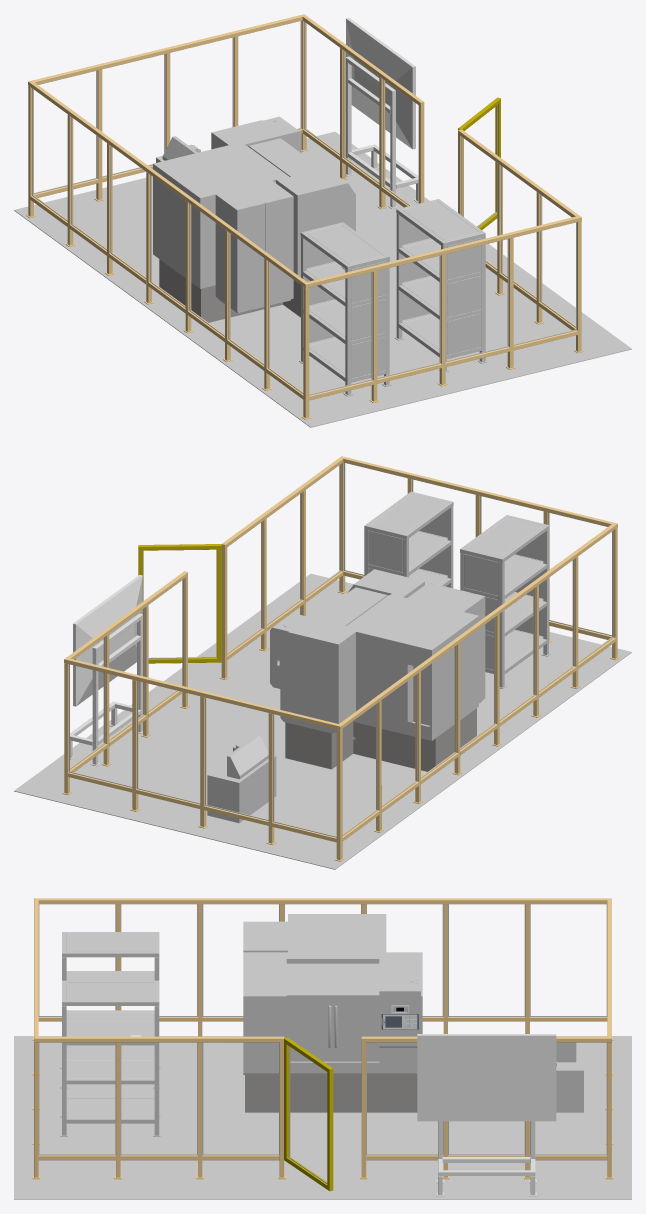
The model's file is sketchMap.glb.
The picture shows the model from 3 angles, top to bottom: view 1: azimuth 30°, elevation 25°; view 2: azimuth 150°, elevation 25°; view 3: azimuth 270°, elevation 25°; orthographic projection. The views are drawn at different scales.
Parts seen in each view (by area): view 1: Mesh_383, Mesh_348, 屏幕, Mesh_362, Mesh_359, Mesh_357, Mesh_204, Mesh_93, Mesh_98, Mesh_88, Mesh_195, Mesh_30 (+45 smaller); view 2: Mesh_383, Mesh_348, Mesh_204, 屏幕, Mesh_199, Mesh_93, Mesh_362, Mesh_88, Mesh_98, Mesh_195, Mesh_30, Mesh_24 (+36 smaller); view 3: Mesh_383, Mesh_348, 屏幕, Mesh_204, 右侧门, 左侧门, Mesh_93, Mesh_106, Mesh_195, Mesh_30, Mesh_171, Mesh_177 (+40 smaller).
Part boxes in pixels (left/top/right/bottom): Mesh_383: left=14, top=131, right=631, bottom=427; Mesh_348: left=153, top=120, right=355, bottom=288; 屏幕: left=346, top=17, right=415, bottom=149; Mesh_362: left=215, top=181, right=292, bottom=311; Mesh_359: left=236, top=203, right=265, bottom=312; Mesh_357: left=265, top=196, right=293, bottom=304; Mesh_204: left=159, top=259, right=300, bottom=322; Mesh_93: left=28, top=81, right=306, bottom=287; Mesh_98: left=305, top=216, right=581, bottom=288; Mesh_88: left=29, top=14, right=303, bottom=84; Mesh_195: left=403, top=201, right=478, bottom=240; Mesh_30: left=307, top=225, right=383, bottom=263; Mesh_383: left=14, top=573, right=631, bottom=869; Mesh_348: left=280, top=569, right=478, bottom=740; Mesh_204: left=285, top=708, right=476, bottom=771; 屏幕: left=73, top=575, right=142, bottom=706; Mesh_199: left=207, top=755, right=276, bottom=823; Mesh_93: left=339, top=523, right=617, bottom=729; Mesh_362: left=407, top=583, right=484, bottom=702; Mesh_88: left=64, top=658, right=340, bottom=730; Mesh_98: left=342, top=456, right=616, bottom=526; Mesh_195: left=371, top=494, right=446, bottom=533; Mesh_30: left=466, top=517, right=542, bottom=556; Mesh_24: left=464, top=554, right=498, bottom=595; Mesh_383: left=14, top=1036, right=631, bottom=1199; Mesh_348: left=243, top=914, right=422, bottom=1074; 屏幕: left=417, top=1034, right=556, bottom=1121; Mesh_204: left=245, top=1075, right=417, bottom=1112; 右侧门: left=333, top=964, right=379, bottom=1061; 左侧门: left=286, top=964, right=332, bottom=1061; Mesh_93: left=35, top=898, right=610, bottom=904; Mesh_106: left=34, top=1036, right=284, bottom=1042; Mesh_195: left=66, top=982, right=154, bottom=999; Mesh_30: left=66, top=934, right=154, bottom=951; Mesh_171: left=66, top=1100, right=154, bottom=1117; Mesh_177: left=66, top=1061, right=154, bottom=1078.
Bounding box in the file's own units: 10.52 × 4.31 × 15.82.
